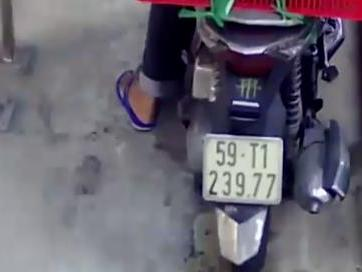num_plate: (203, 133, 285, 206)
